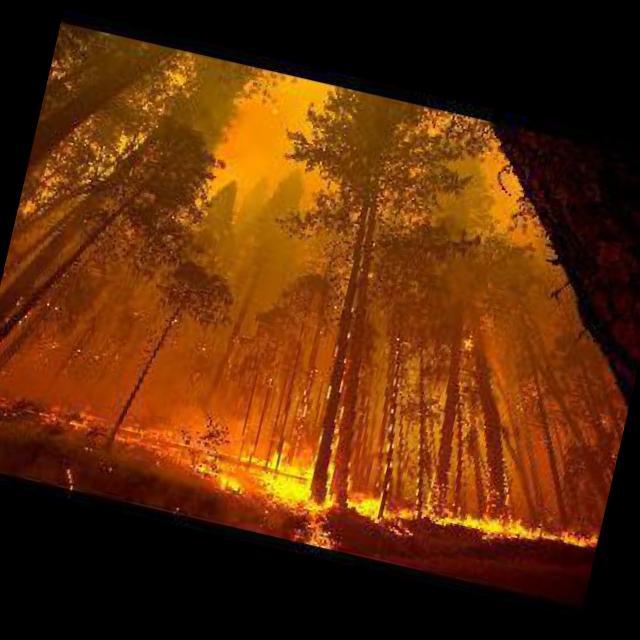fire: (0, 348, 608, 601)
